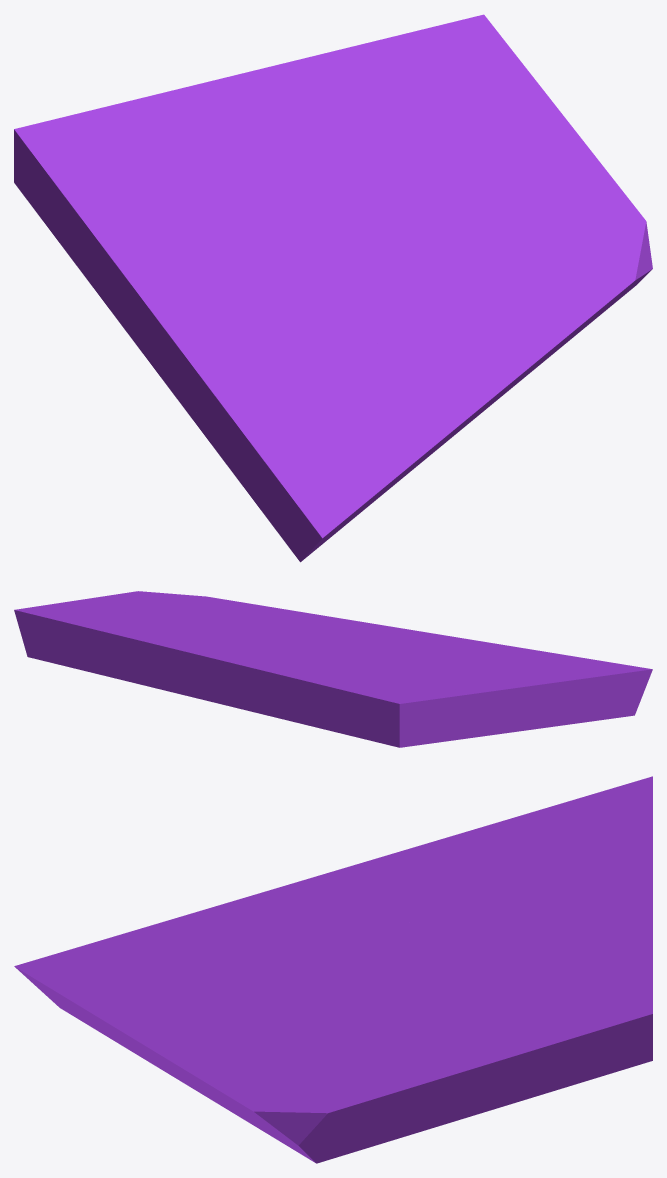
Rendered from Window_145_1_chunks.fbx.
The picture shows the model from 3 angles, top to bottom: view 1: azimuth 30°, elevation 25°; view 2: azimuth 150°, elevation 25°; view 3: azimuth 270°, elevation 25°; orthographic projection. The views are drawn at different scales.
Visible parts, largest first — view 1: Window_145_1_4, Window_145_1_8, Window_145_1_1, Window_145_1_2, Window_145_1_10, Window_145_1_19, Window_145_1_6, Window_145_1_9, Window_145_1_18, Window_145_1_21, Window_145_1_7, Window_145_1_3 (+6 smaller); view 2: Window_145_1_19, Window_145_1_4, Window_145_1_8, Window_145_1_10, Window_145_1_1, Window_145_1_7, Window_145_1_18, Window_145_1_2, Window_145_1_6, Window_145_1_20, Window_145_1_9, Window_145_1_21 (+6 smaller); view 3: Window_145_1_4, Window_145_1_2, Window_145_1_8, Window_145_1_1, Window_145_1_6, Window_145_1_10, Window_145_1_16, Window_145_1_19, Window_145_1_9, Window_145_1_17, Window_145_1_21, Window_145_1_7 (+7 smaller).
Boxes of the visible parts, x1=… form: Window_145_1_4: x1=316, y1=16, x2=520, y2=234; Window_145_1_8: x1=82, y1=222, x2=326, y2=423; Window_145_1_1: x1=196, y1=259, x2=394, y2=472; Window_145_1_2: x1=378, y1=236, x2=629, y2=406; Window_145_1_10: x1=233, y1=398, x2=397, y2=562; Window_145_1_19: x1=14, y1=71, x2=249, y2=207; Window_145_1_6: x1=413, y1=182, x2=652, y2=305; Window_145_1_9: x1=242, y1=171, x2=413, y2=290; Window_145_1_18: x1=33, y1=173, x2=219, y2=272; Window_145_1_21: x1=163, y1=108, x2=287, y2=225; Window_145_1_7: x1=283, y1=55, x2=390, y2=193; Window_145_1_3: x1=369, y1=297, x2=530, y2=380; Window_145_1_19: x1=207, y1=657, x2=427, y2=747; Window_145_1_4: x1=21, y1=611, x2=283, y2=684; Window_145_1_8: x1=368, y1=654, x2=550, y2=739; Window_145_1_10: x1=498, y1=651, x2=652, y2=722; Window_145_1_1: x1=330, y1=642, x2=589, y2=727; Window_145_1_7: x1=142, y1=637, x2=288, y2=701; Window_145_1_18: x1=362, y1=671, x2=472, y2=745; Window_145_1_2: x1=215, y1=598, x2=360, y2=643; Window_145_1_6: x1=146, y1=591, x2=284, y2=635; Window_145_1_20: x1=179, y1=650, x2=256, y2=712; Window_145_1_9: x1=255, y1=635, x2=390, y2=666; Window_145_1_21: x1=238, y1=653, x2=383, y2=678; Window_145_1_4: x1=385, y1=929, x2=652, y2=1062; Window_145_1_2: x1=173, y1=975, x2=383, y2=1134; Window_145_1_8: x1=271, y1=831, x2=469, y2=951; Window_145_1_1: x1=173, y1=890, x2=364, y2=986; Window_145_1_6: x1=249, y1=992, x2=419, y2=1160; Window_145_1_10: x1=14, y1=919, x2=201, y2=1048; Window_145_1_16: x1=314, y1=1043, x2=448, y2=1155; Window_145_1_19: x1=547, y1=776, x2=652, y2=895; Window_145_1_9: x1=339, y1=902, x2=509, y2=992; Window_145_1_17: x1=423, y1=1009, x2=652, y2=1097; Window_145_1_21: x1=457, y1=857, x2=609, y2=921; Window_145_1_7: x1=446, y1=912, x2=652, y2=977.
Size of the model in its own units: 934 by 420 by 1049.
